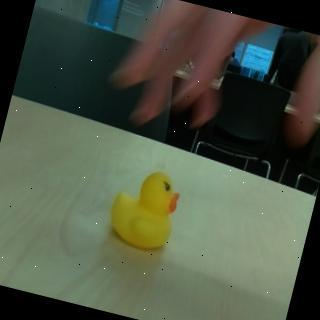duck_regular: (104, 163, 187, 256)
